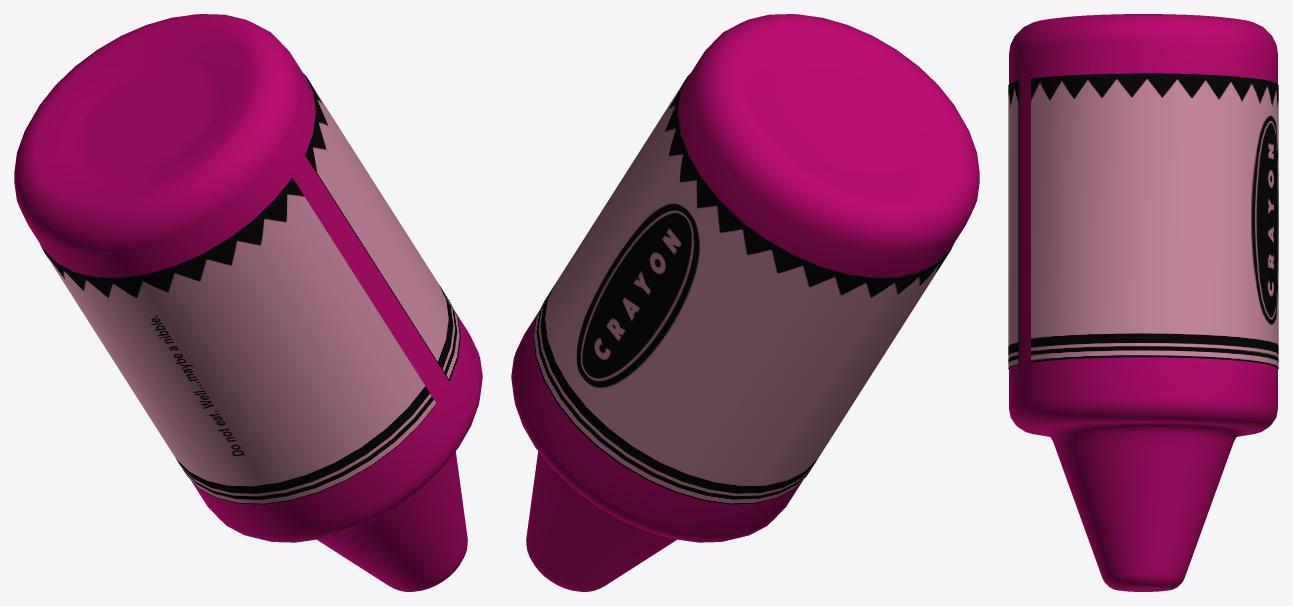
The model's file is stubby.gltf.
The picture shows the model from 3 angles, left to right: view 1: azimuth 30°, elevation 25°; view 2: azimuth 150°, elevation 25°; view 3: azimuth 270°, elevation 25°; orthographic projection. The views are drawn at different scales.
Visible parts, largest first — view 1: Cylinder-crayon, Cylinder-label; view 2: Cylinder-label, Cylinder-crayon; view 3: Cylinder-label, Cylinder-crayon.
Part boxes in pixels (x1=…): Cylinder-crayon: x1=14, y1=14, x2=482, y2=591; Cylinder-label: x1=40, y1=73, x2=460, y2=504; Cylinder-label: x1=533, y1=73, x2=953, y2=504; Cylinder-crayon: x1=511, y1=14, x2=979, y2=591; Cylinder-label: x1=1008, y1=73, x2=1278, y2=369; Cylinder-crayon: x1=1009, y1=14, x2=1277, y2=591.
Bounding box in the file's own units: 1.48 × 1.99 × 0.9543.
Materials: 2 (1 with a texture image).
